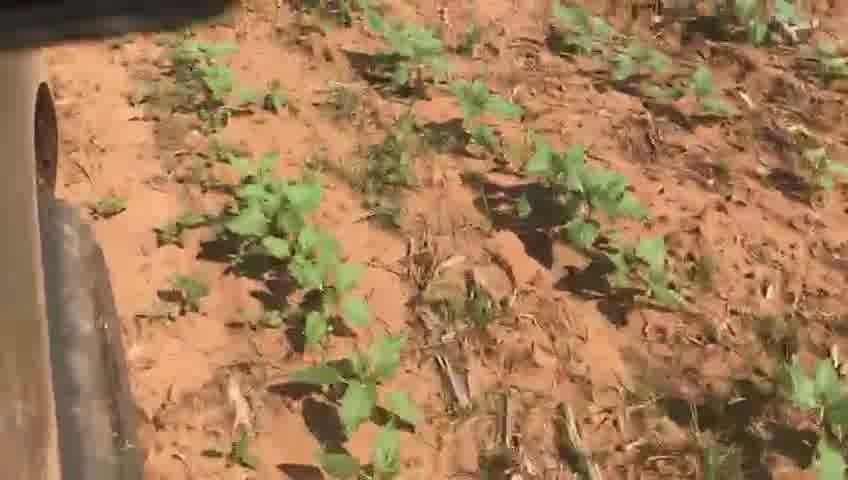sunflower: (272, 325, 425, 431), (517, 136, 641, 247), (216, 176, 347, 262), (593, 226, 708, 319), (257, 251, 372, 328), (774, 352, 839, 475), (353, 12, 448, 95), (442, 67, 526, 154), (309, 423, 413, 478), (615, 29, 682, 98), (175, 57, 244, 123), (538, 4, 615, 57), (678, 62, 739, 128), (725, 8, 803, 49), (224, 148, 281, 196), (165, 26, 232, 64), (796, 150, 839, 197)
